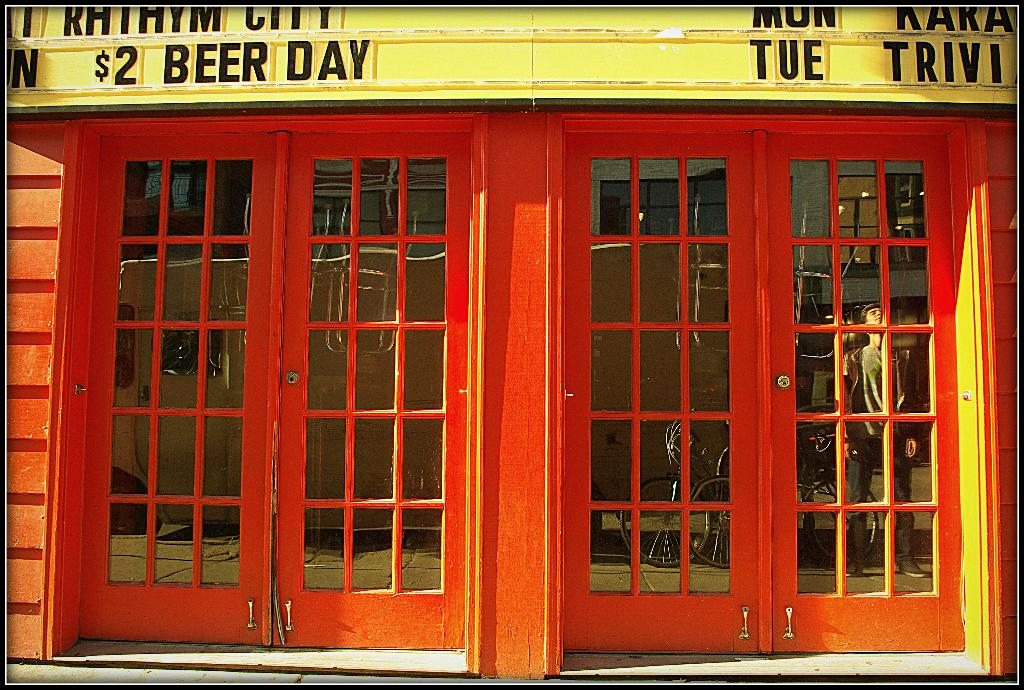Door: (767, 133, 968, 650), (77, 132, 279, 643), (568, 129, 765, 649), (275, 133, 468, 646)
